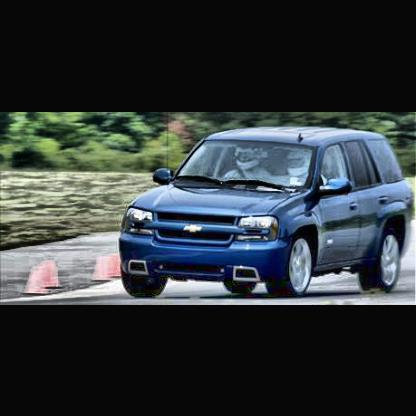Chevrolet TrailBlazer SS 2009: (120, 125, 416, 297)
